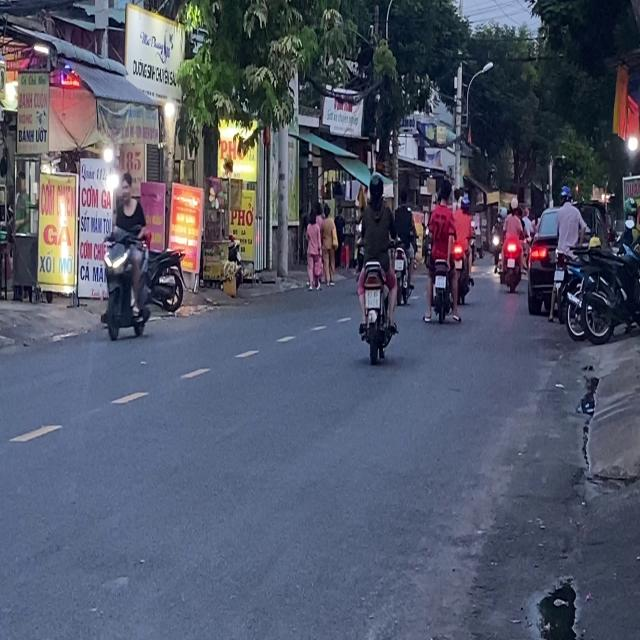helmet: (368, 170, 384, 202), (622, 196, 637, 227)
licenseplate: (100, 168, 151, 343), (354, 169, 398, 362), (423, 176, 458, 323)
motorcyclist: (118, 170, 134, 203), (436, 176, 452, 205)
nohelmet: (365, 289, 380, 307), (435, 275, 445, 288)
